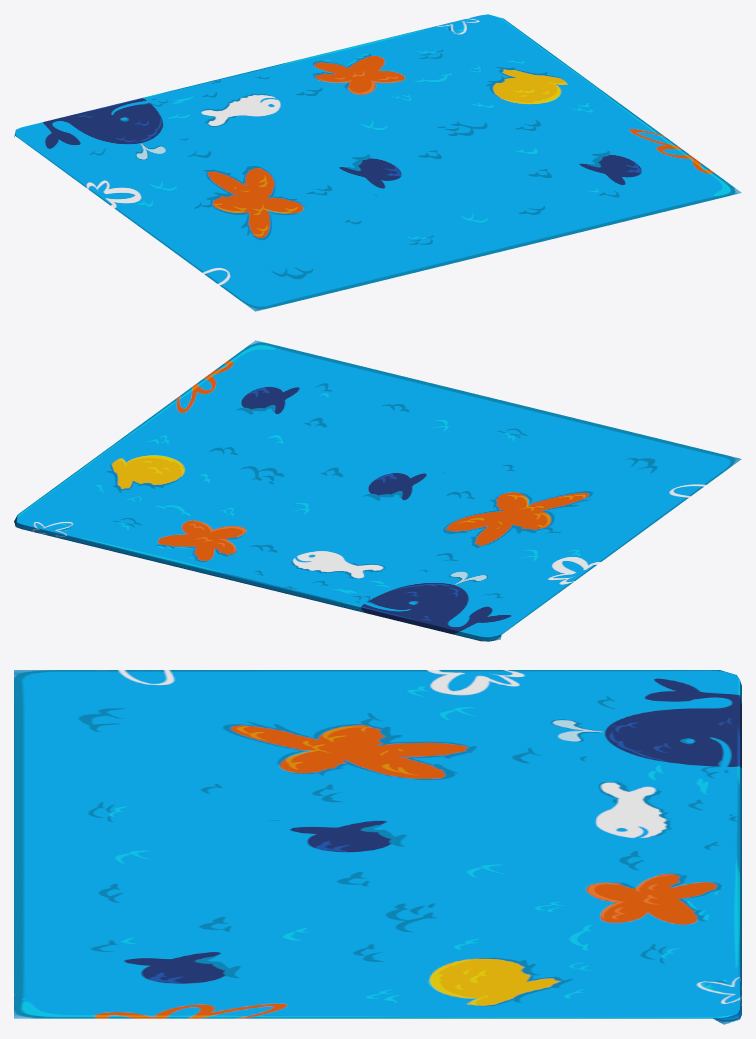
Rendered from Carpet_1.fbx.
3 renders of one model, top to bottom at view 1: azimuth 30°, elevation 25°; view 2: azimuth 150°, elevation 25°; view 3: azimuth 270°, elevation 25°, orthographic. The views are drawn at different scales.
Parts seen in each view (by area): view 1: Carpet; view 2: Carpet; view 3: Carpet.
Part boxes in pixels (x1,y1,x2,y2): Carpet: [14, 14, 741, 311]; Carpet: [14, 340, 741, 641]; Carpet: [14, 670, 741, 1024].
Bounding box in the file's own units: 134 × 1.08 × 118.
